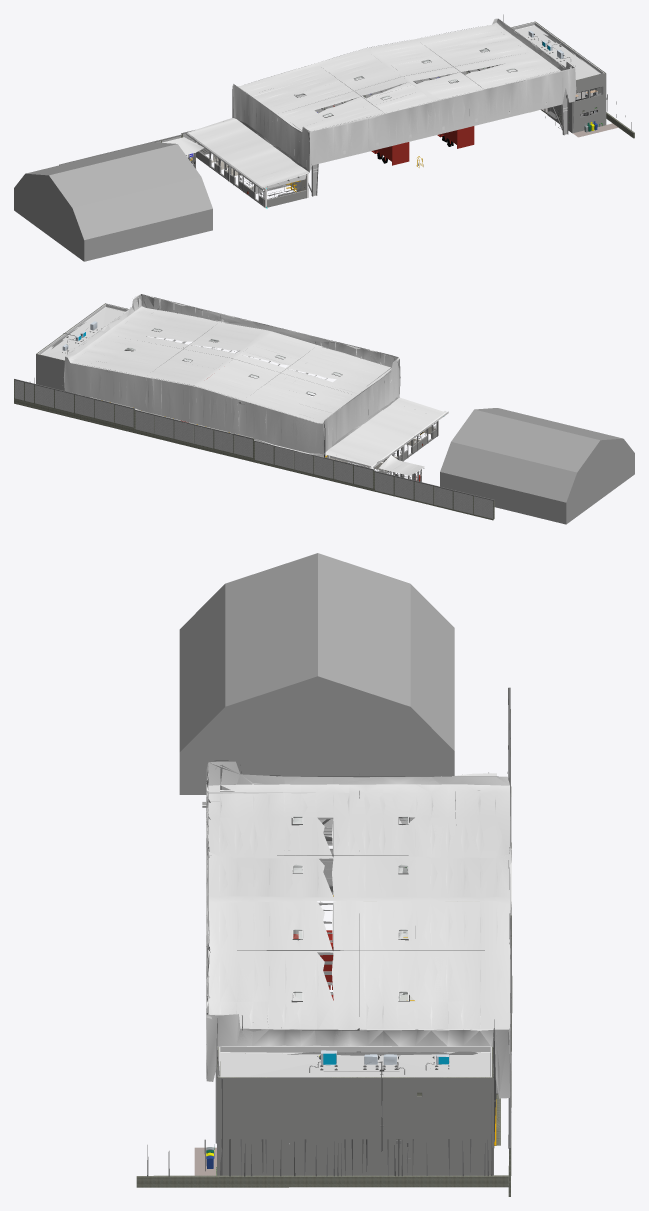
Rendered from taller-mecanico--kof-su-sjdr-0665-cct-arq-m3d-arquitectura-a00.ra.glb.
The picture shows the model from 3 angles, top to bottom: view 1: azimuth 30°, elevation 25°; view 2: azimuth 150°, elevation 25°; view 3: azimuth 270°, elevation 25°; orthographic projection. The views are drawn at different scales.
Parts seen in each view (by area): view 1: Lámina_R-101_-_lamina_r-101-5-88m_4088706, Site, Basic_Wall_-_RAL_9006_-_Pintura_-_Pintura_Epóxica_Gris_35115, Floor_-_P-02_-_Malla_+_impermeabilizante_+_sellador_312851, KOF_BULK16_HÍBRIDA_974000, VIGA_PARAMETRICA_DE_SECCION_VARIABLE_-_S-1_1105666, COLUMNA_PARAMETRICA_DE_SECCION_VARIABLE_-_C-3_1087928, Conduit_with_Fittings_-_Tubo_metálico_eléctrico_(EMT)_625592, poste_2_metros_altura_1820809, Basic_Wall_-_Generic_-_120mm_307359; view 2: Lámina_R-101_-_lamina_r-101-5-88m_4088706, Site, Basic_Wall_-_Generic_-_120mm_307359, Contratrabe_1_-_150_x_1000mm_318770, Floor_-_P-02_-_Malla_+_impermeabilizante_+_sellador_312851, Basic_Wall_-_RAL_9006_-_Pintura_-_Pintura_Epóxica_Gris_35115, Cerramiento-Pecho_Paloma_-_120_x_120mm_311718, M_Concrete-Rectangular-Column_-_150_x_150mm_305807, VIGA_PARAMETRICA_DE_SECCION_VARIABLE_-_S-1_1105666, Conduit_with_Fittings_-_Tubo_metálico_eléctrico_(EMT)_625592; view 3: Lámina_R-101_-_lamina_r-101-5-88m_4088706, Site, Basic_Wall_-_RAL_9006_-_Pintura_-_Pintura_Epóxica_Gris_35115, Floor_-_P-02_-_Malla_+_impermeabilizante_+_sellador_312851, Contratrabe_1_-_150_x_1000mm_318770, Conduit_with_Fittings_-_Tubo_metálico_eléctrico_(EMT)_625592, CERCO_TUBULAR_1_-_No_tubos_337119, Basic_Wall_-_I-01_Impermeabilizante_3552680, VIGA_PARAMETRICA_DE_SECCION_VARIABLE_-_S-1_1105666, Cerramiento-Pecho_Paloma_-_120_x_120mm_311718, Skylight-Velux-Dynamic_Dome-CMD2_-_2448_4460009.
Boxes of the visible parts, x1,y1,x2,y2 form: Lámina_R-101_-_lamina_r-101-5-88m_4088706: (162,18,576,188); Site: (14,142,212,261); Basic_Wall_-_RAL_9006_-_Pintura_-_Pintura_Epóxica_Gris_35115: (196,23,606,207); Floor_-_P-02_-_Malla_+_impermeabilizante_+_sellador_312851: (511,22,604,79); KOF_BULK16_HÍBRIDA_974000: (371,126,474,165); VIGA_PARAMETRICA_DE_SECCION_VARIABLE_-_S-1_1105666: (223,23,573,183); COLUMNA_PARAMETRICA_DE_SECCION_VARIABLE_-_C-3_1087928: (311,66,568,196); Conduit_with_Fittings_-_Tubo_metálico_eléctrico_(EMT)_625592: (190,14,603,190); poste_2_metros_altura_1820809: (188,144,305,198); Basic_Wall_-_Generic_-_120mm_307359: (156,66,491,145); Lámina_R-101_-_lamina_r-101-5-88m_4088706: (63,294,445,475); Site: (440,408,634,524); Basic_Wall_-_Generic_-_120mm_307359: (15,380,493,518); Contratrabe_1_-_150_x_1000mm_318770: (14,398,493,520); Floor_-_P-02_-_Malla_+_impermeabilizante_+_sellador_312851: (37,304,128,360); Basic_Wall_-_RAL_9006_-_Pintura_-_Pintura_Epóxica_Gris_35115: (36,304,436,473); Cerramiento-Pecho_Paloma_-_120_x_120mm_311718: (14,379,494,500); M_Concrete-Rectangular-Column_-_150_x_150mm_305807: (14,380,494,519); VIGA_PARAMETRICA_DE_SECCION_VARIABLE_-_S-1_1105666: (71,295,399,455); Conduit_with_Fittings_-_Tubo_metálico_eléctrico_(EMT)_625592: (39,294,426,473); Lámina_R-101_-_lamina_r-101-5-88m_4088706: (206,761,511,1098); Site: (179,553,454,794); Basic_Wall_-_RAL_9006_-_Pintura_-_Pintura_Epóxica_Gris_35115: (217,1078,493,1175); Floor_-_P-02_-_Malla_+_impermeabilizante_+_sellador_312851: (218,1046,491,1077); Contratrabe_1_-_150_x_1000mm_318770: (136,1166,510,1196); Conduit_with_Fittings_-_Tubo_metálico_eléctrico_(EMT)_625592: (208,760,509,1175); CERCO_TUBULAR_1_-_No_tubos_337119: (147,1139,492,1176); Basic_Wall_-_I-01_Impermeabilizante_3552680: (220,1047,490,1052); VIGA_PARAMETRICA_DE_SECCION_VARIABLE_-_S-1_1105666: (206,770,509,1093); Cerramiento-Pecho_Paloma_-_120_x_120mm_311718: (508,687,511,1149); Skylight-Velux-Dynamic_Dome-CMD2_-_2448_4460009: (291,816,409,1002).
Bounding box in the file's own units: 83.17 × 10.33 × 25.13.
Materials: 259 (37 with a texture image).
